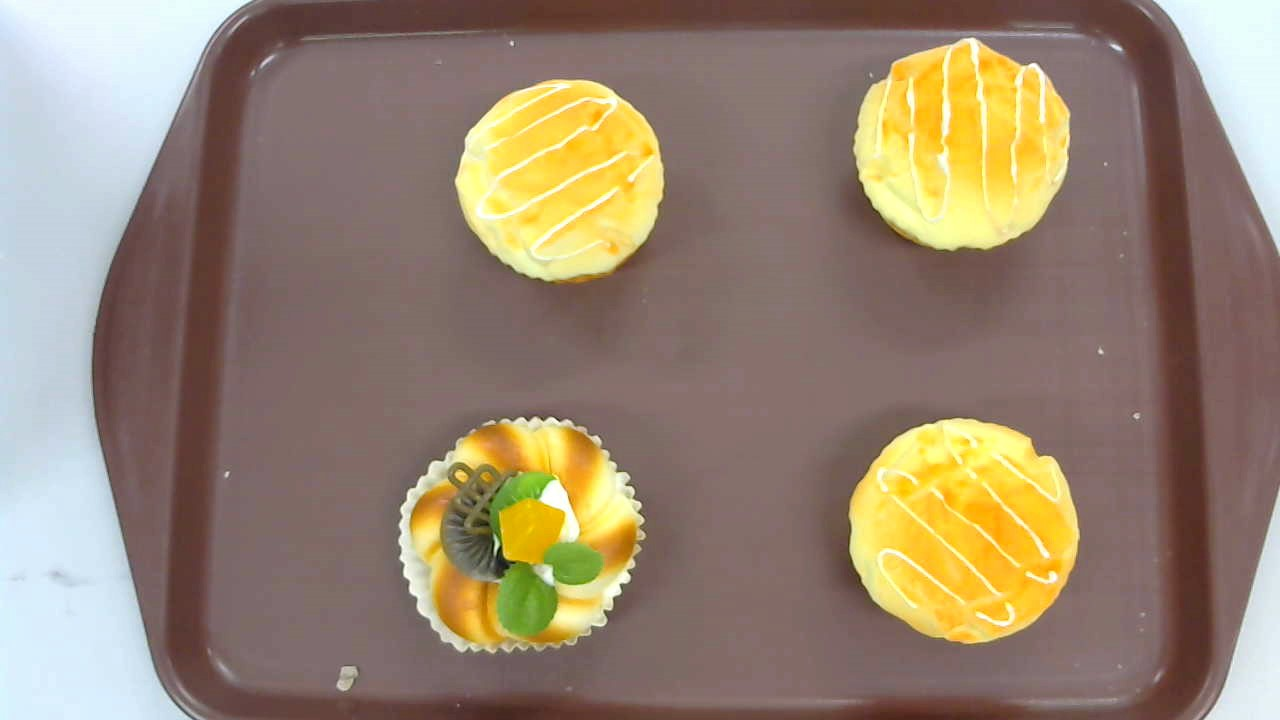cupcake: (848, 416, 1081, 647), (853, 38, 1071, 252), (453, 77, 666, 286)
fruit tart: (398, 415, 648, 655)
